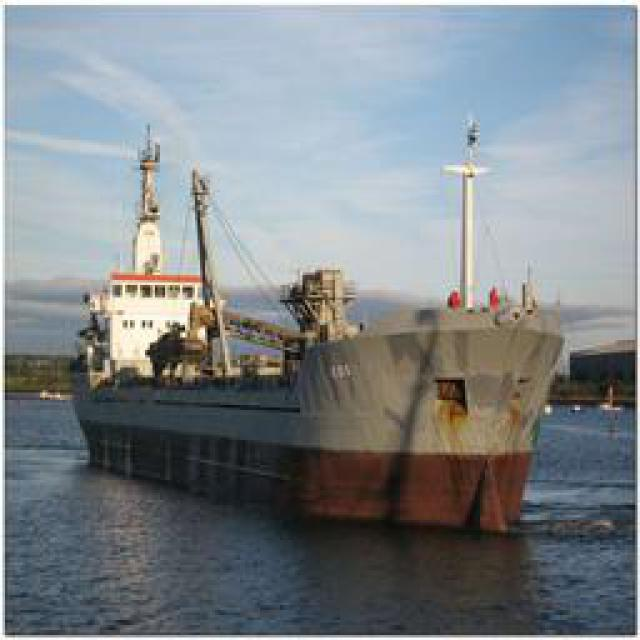Ship: (71, 105, 566, 523)
